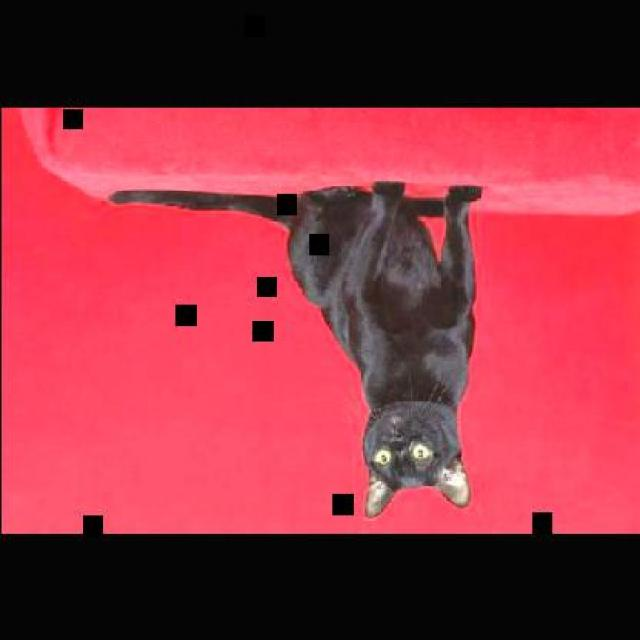unauthorized: (108, 180, 483, 517)
